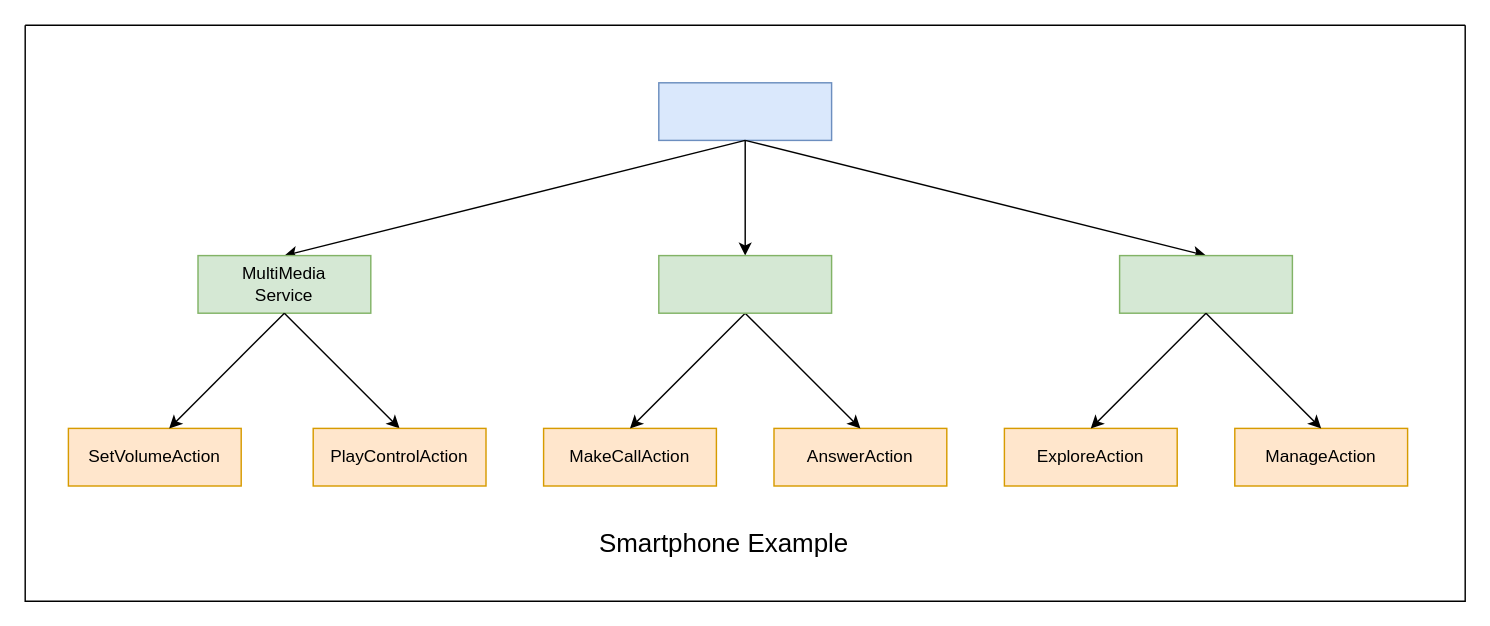
This 1490x626 diagram has some shape labels left out. The centre of each missing label's shape, as x and y in pixels:
Communication Service: pixel 744 283
SmartphoneDevice: pixel 744 110
Storage Service: pixel 1205 283
